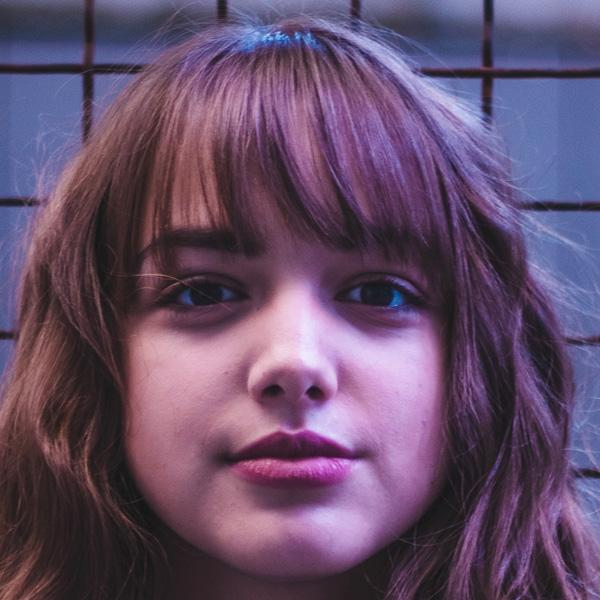Eyes: (141, 261, 264, 328), (323, 258, 434, 327)
